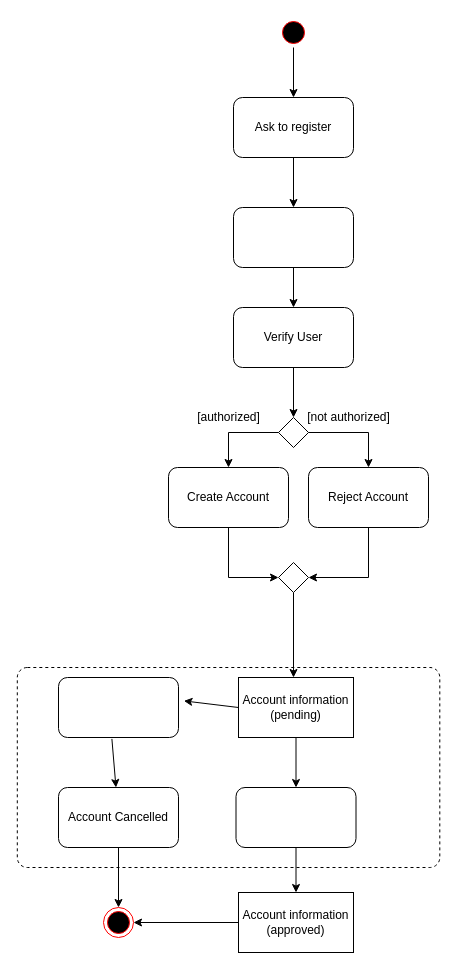
Some shapes in this 458 by 970 pixel diagram are drawn without their labels. The shapes that lost their labels are listed below. From the top down, each one's centre as x and y in pixels, then its label:
At point (293, 237): "Enter user information".
At point (118, 707): "User Cancels".
At point (295, 817): "Verify account".
